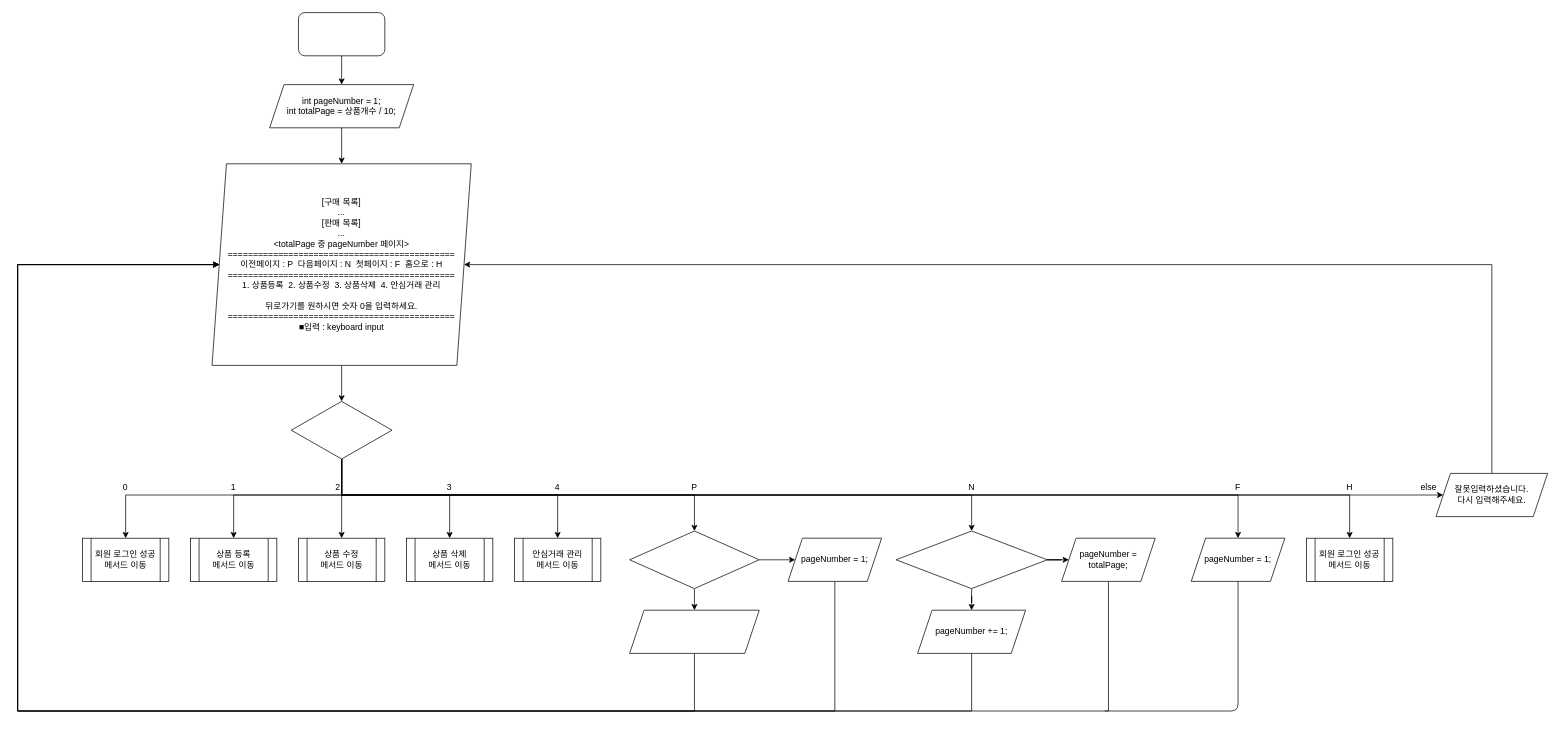
Some shapes in this 1560 by 729 pixel diagram are drawn without their labels. Here are the shapes that lost their labels. From the top down, the centre of each, then its label:
point (341, 34): 게시글 관리 메서드 진입
point (341, 430): input
point (694, 559): if (pageNumber > 1)
point (971, 559): if (pageNumber < totalPage)
point (694, 631): pageNumber -= 1;
